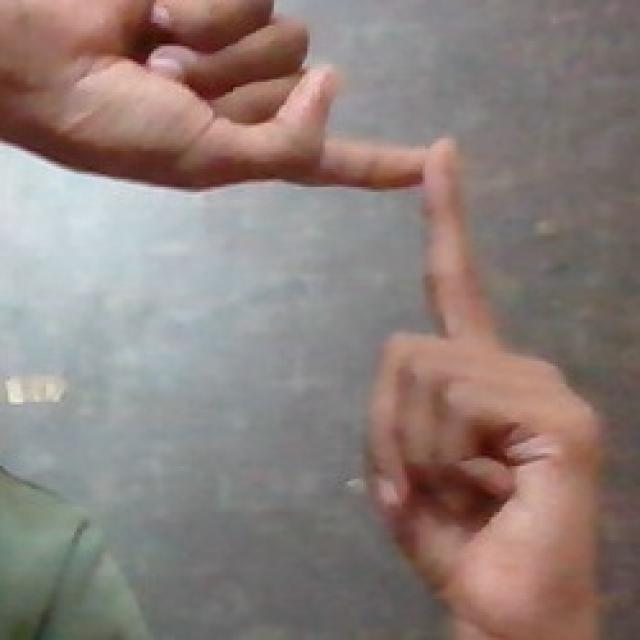Alphabet-E: (4, 0, 599, 640)
